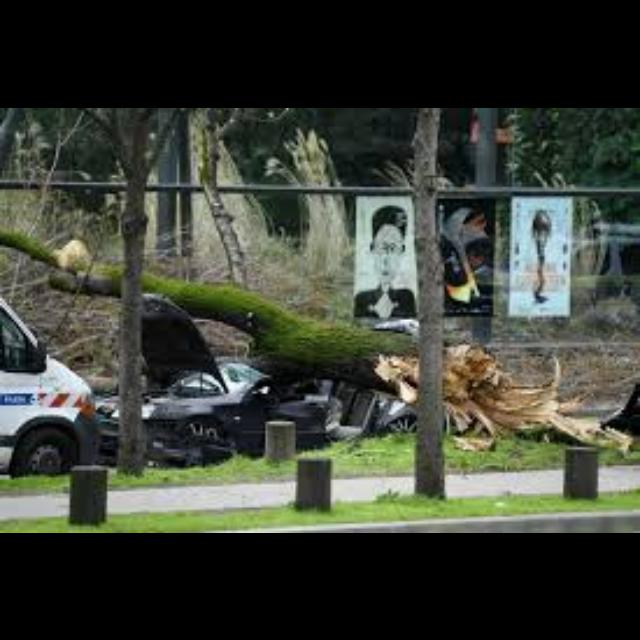Fallen Tree: (46, 237, 512, 408)
